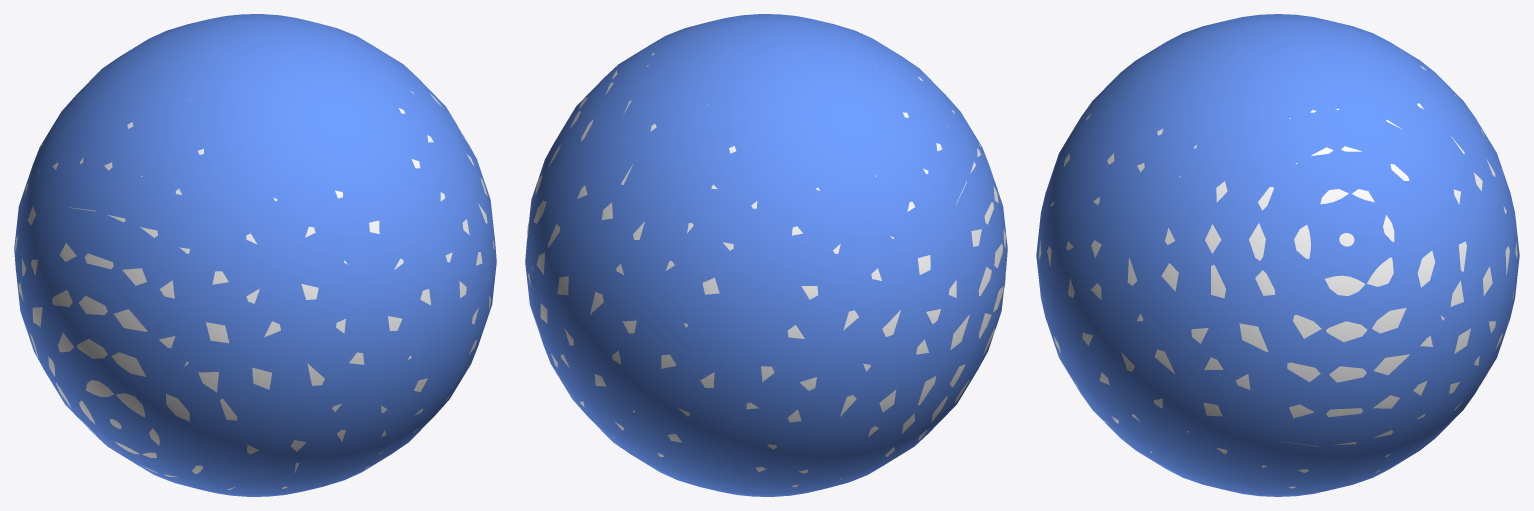
Rendered from earth_2.glb.
The picture shows the model from 3 angles, left to right: view 1: azimuth 30°, elevation 25°; view 2: azimuth 150°, elevation 25°; view 3: azimuth 270°, elevation 25°; orthographic projection.
Visible parts, largest first — view 1: atmo, clouds; view 2: atmo, clouds; view 3: atmo, clouds.
Boxes of the visible parts, x1=… form: atmo: x1=14, y1=14, x2=496, y2=496; clouds: x1=15, y1=28, x2=494, y2=489; atmo: x1=525, y1=14, x2=1007, y2=496; clouds: x1=527, y1=40, x2=1006, y2=487; atmo: x1=1036, y1=14, x2=1519, y2=496; clouds: x1=1039, y1=64, x2=1517, y2=488.
Bounding box in the file's own units: 20.2 × 20.2 × 20.2.
